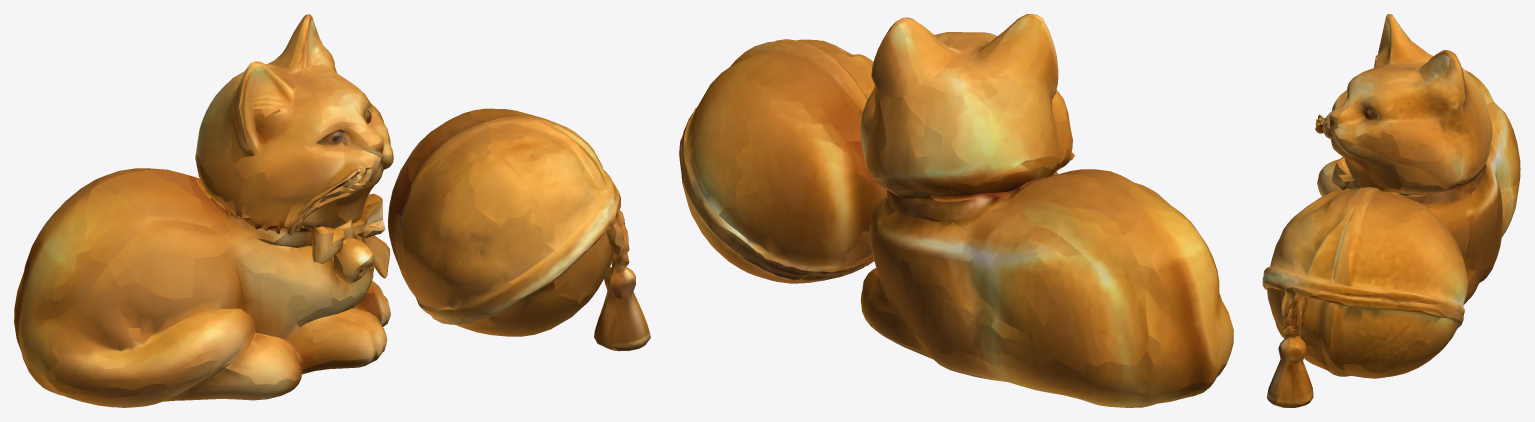
The model's file is cat-ball-gold.glb.
3 renders of one model, left to right at view 1: azimuth 30°, elevation 25°; view 2: azimuth 150°, elevation 25°; view 3: azimuth 270°, elevation 25°, orthographic. The views are drawn at different scales.
Visible parts, largest first — view 1: geometry_0; view 2: geometry_0; view 3: geometry_0.
Boxes of the visible parts, bbox=[...] form: geometry_0: bbox=[14, 14, 650, 407]; geometry_0: bbox=[679, 14, 1233, 407]; geometry_0: bbox=[1262, 14, 1520, 407].
Bounding box in the file's own units: 0.12 × 0.067 × 0.0598.
1 material, 1 textured.
